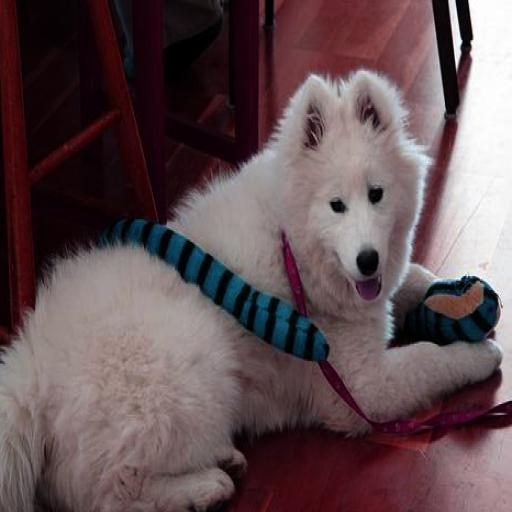dog_face: (285, 66, 425, 315)
